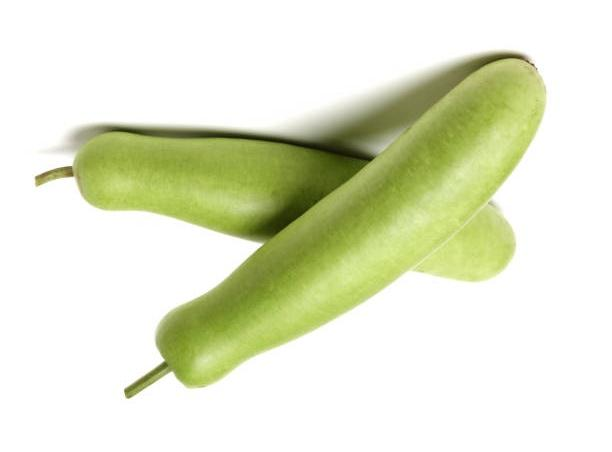bottle gourd: (122, 56, 543, 397), (34, 127, 516, 283)
